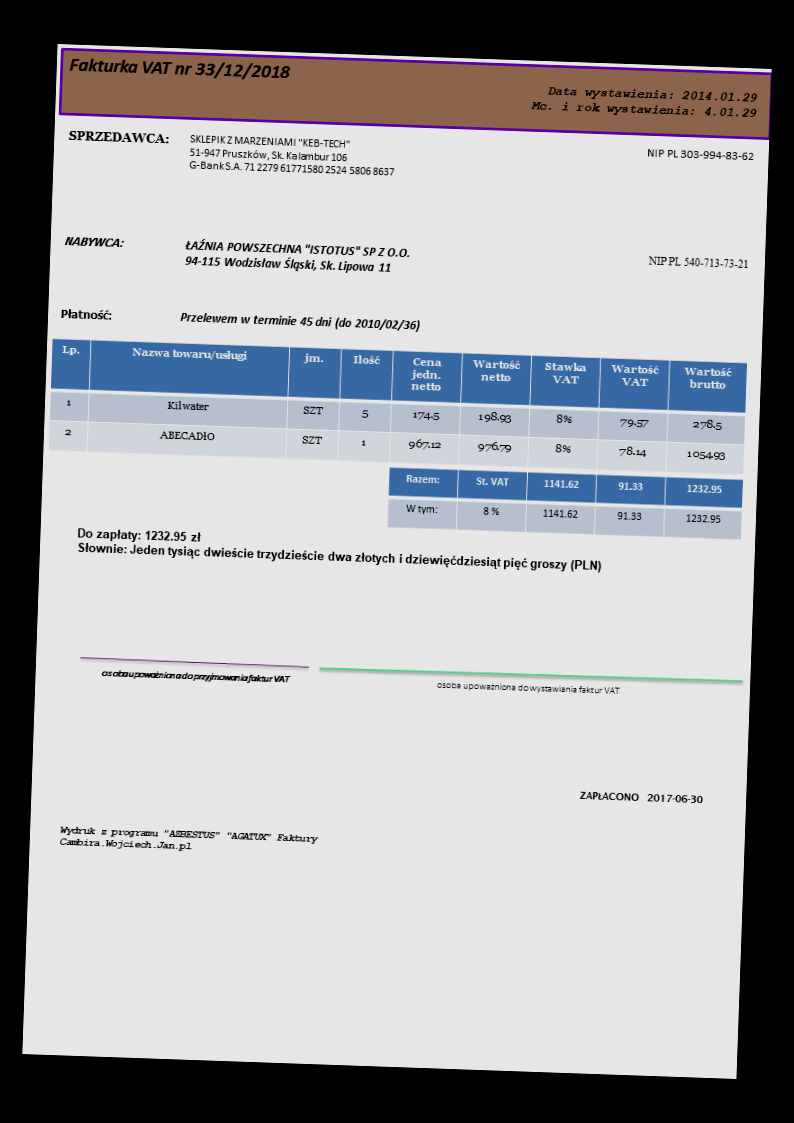Table: (46, 336, 748, 474), (385, 465, 744, 542)
TextBox: (74, 525, 605, 576), (186, 130, 397, 181), (57, 821, 322, 858), (527, 81, 759, 122), (181, 237, 413, 277), (65, 51, 293, 84), (177, 309, 422, 333), (98, 665, 290, 687), (433, 678, 623, 698), (577, 787, 706, 808), (65, 126, 170, 148), (644, 144, 756, 164), (644, 252, 752, 272), (61, 233, 125, 252), (57, 305, 114, 323)
